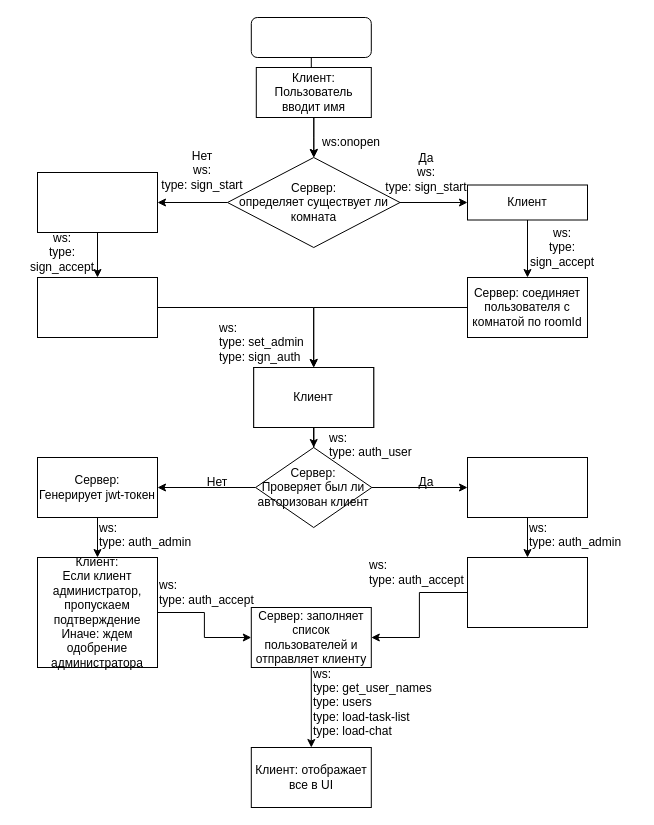
This 654x825 diagram has some shape labels left out. Each missing label, with the centre of its shape:
"Клиент: авторизуется проходя стадию подтверждения от админа" belongs at (x=527, y=592).
"Клиент: Пользователь выбирает тип конференции" belongs at (x=97, y=202).
"Начало" belongs at (x=310, y=37).
"Сервер: Проверяет корректность jwt-токена" belongs at (x=527, y=487).
"Сервер: создает комнату, назначает администратора" belongs at (x=97, y=307).
